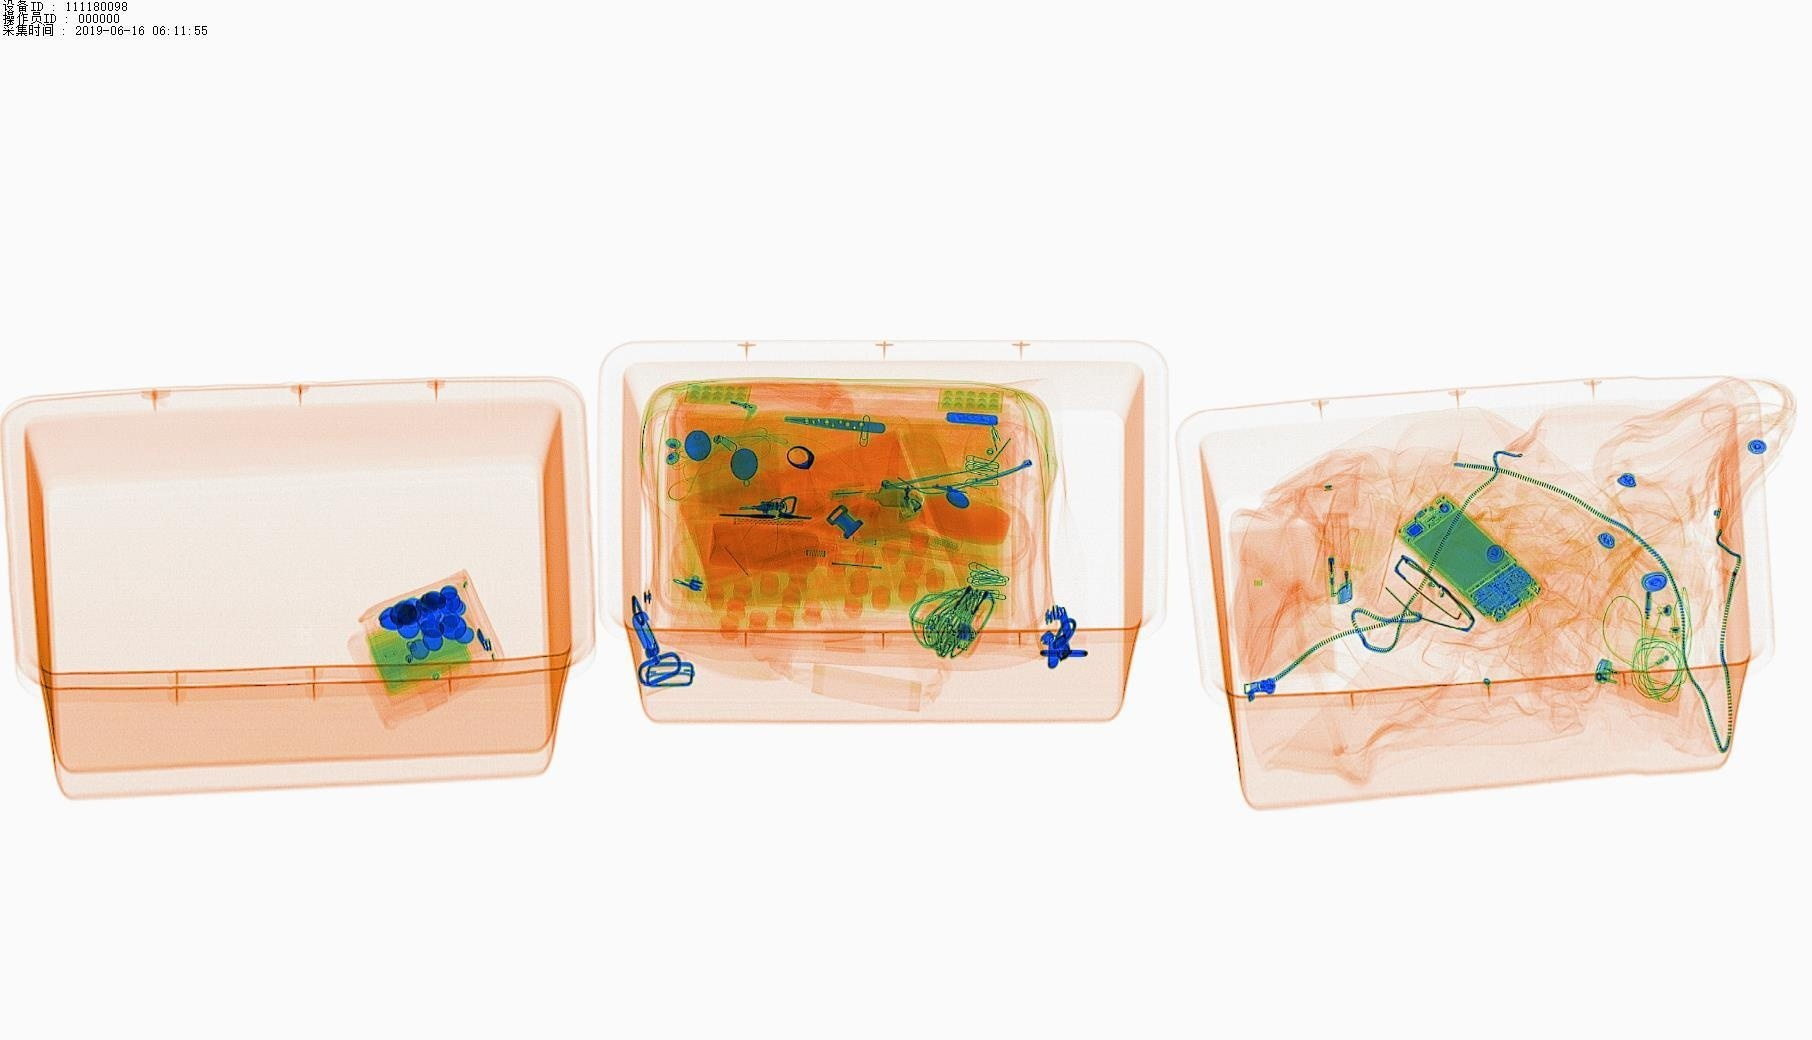NonmetallicFire: (1581, 653, 1688, 734), (1314, 506, 1361, 620)
